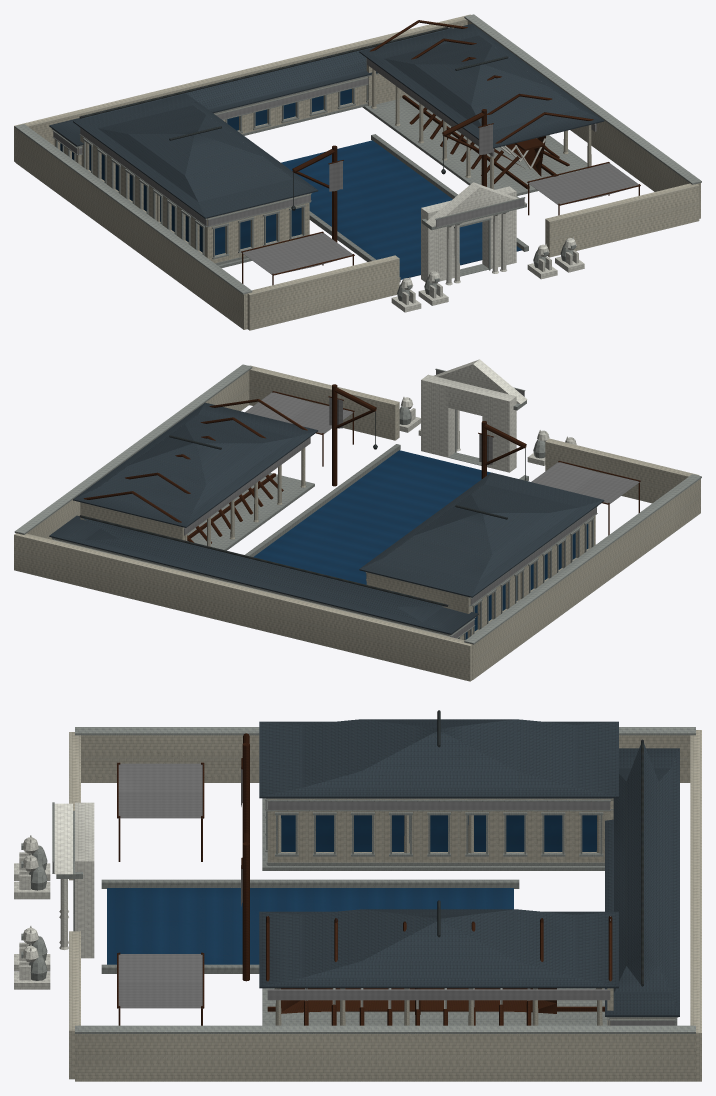
File: arsenal.glb
3 views of the same model, one above another, from view 1: azimuth 30°, elevation 25°; view 2: azimuth 150°, elevation 25°; view 3: azimuth 270°, elevation 25° (orthographic). The views are drawn at different scales.
Visible parts, largest first — view 1: LOD0, LOD0.001, LOD0.002; view 2: LOD0, LOD0.001, LOD0.002; view 3: LOD0, LOD0.001, LOD0.002.
Boxes of the visible parts, left/top/right/bottom form: LOD0: left=14, top=14, right=701, bottom=330; LOD0.001: left=49, top=20, right=640, bottom=215; LOD0.002: left=208, top=107, right=584, bottom=312; LOD0: left=14, top=364, right=701, bottom=681; LOD0.001: left=49, top=391, right=478, bottom=640; LOD0.002: left=187, top=359, right=576, bottom=543; LOD0: left=69, top=710, right=701, bottom=1081; LOD0.001: left=117, top=739, right=679, bottom=1025; LOD0.002: left=14, top=733, right=556, bottom=1025.
Size of what is drawn, in the model's own units: 6.74 by 1.4 by 6.42.
2 materials, 2 textured.
